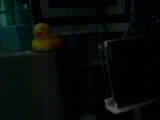duck: (25, 18, 54, 52)
